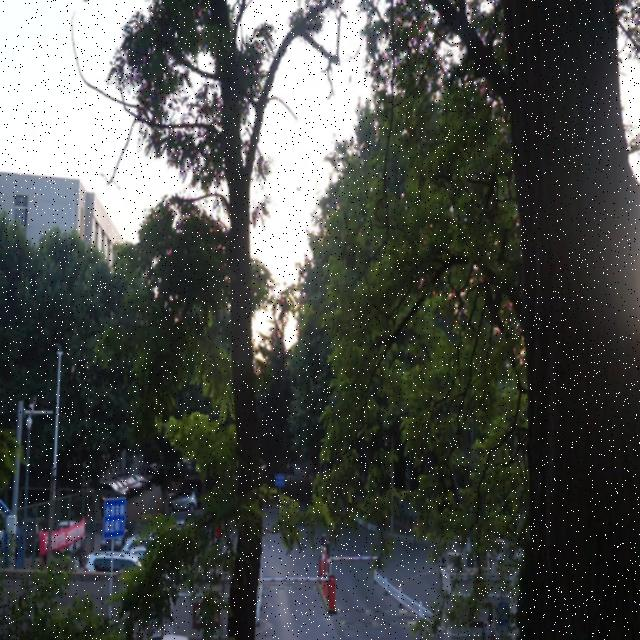UAV: (296, 187, 300, 191)
